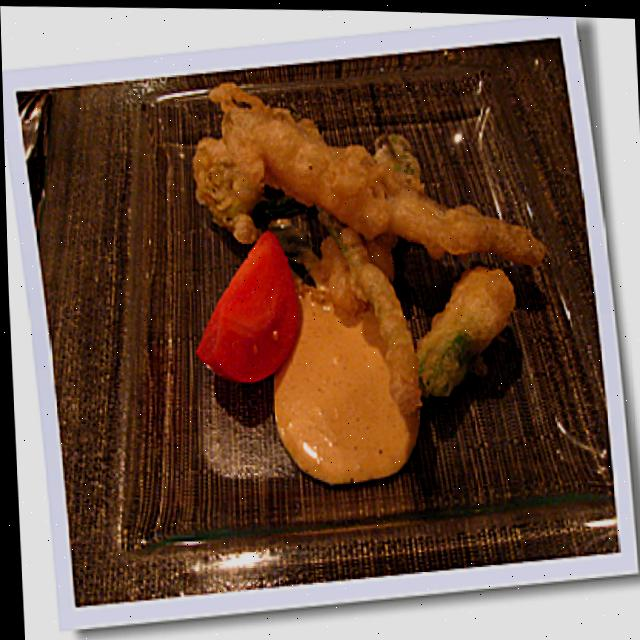蔬菜料理: (156, 50, 531, 504)
